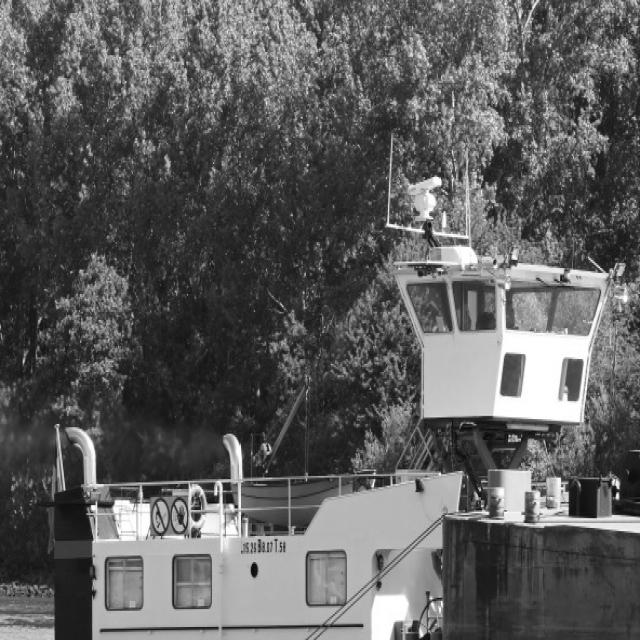tugboat: (1, 129, 640, 640)
